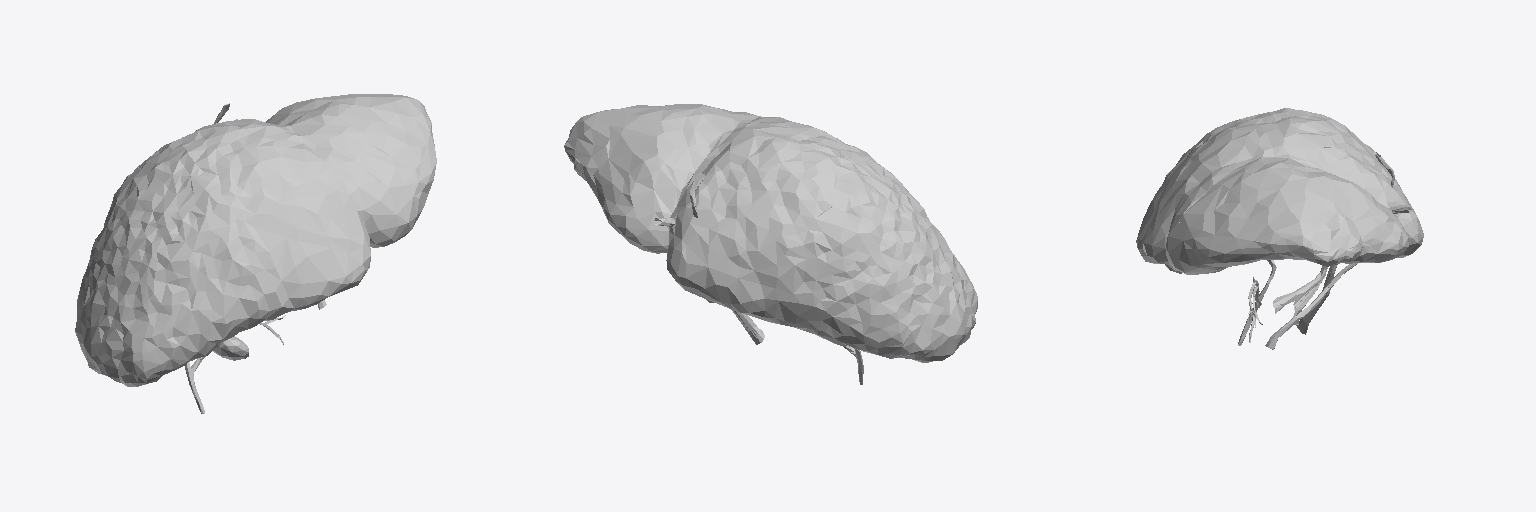
Rendered from 0.2LiverHealthyTri.obj.
3 renders of one model, left to right at view 1: azimuth 30°, elevation 25°; view 2: azimuth 150°, elevation 25°; view 3: azimuth 270°, elevation 25°, orthographic.
Parts seen in each view (by area): view 1: hepatic_artery_hepaticarteryvertices; view 2: hepatic_artery_hepaticarteryvertices; view 3: hepatic_artery_hepaticarteryvertices.
Part boxes in pixels (left/top/right/bottom): hepatic_artery_hepaticarteryvertices: left=75, top=94, right=436, bottom=413; hepatic_artery_hepaticarteryvertices: left=564, top=104, right=977, bottom=384; hepatic_artery_hepaticarteryvertices: left=1136, top=108, right=1423, bottom=349.
Size of the model in its own units: 0.7263 by 0.4829 by 0.5009.